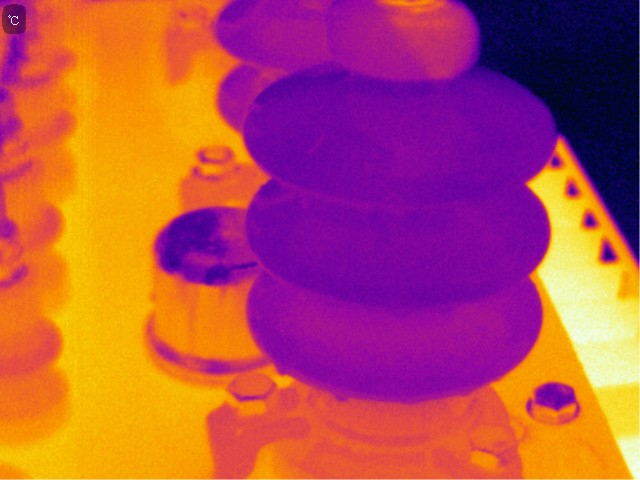Oil: (369, 1, 478, 87), (333, 385, 352, 405), (272, 362, 288, 379)
